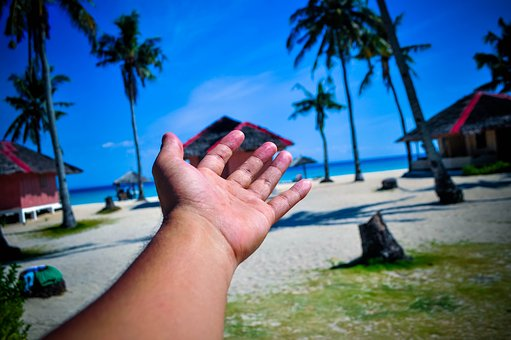palm: (178, 163, 273, 264)
